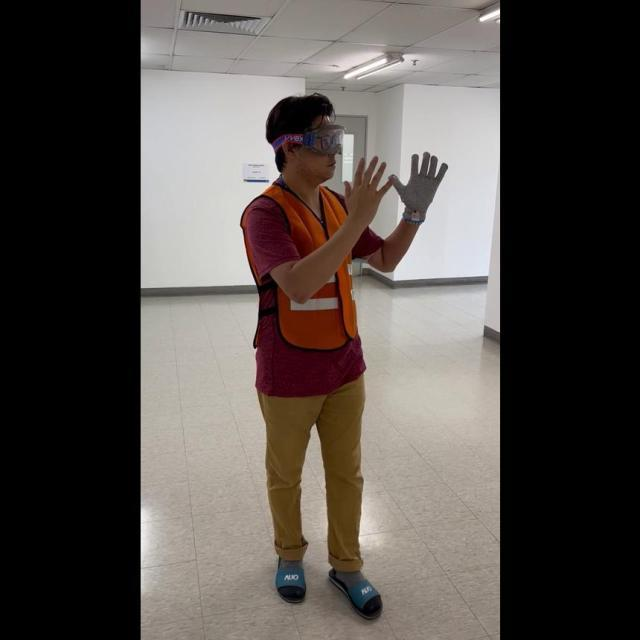bare_hand: (334, 150, 394, 227)
gloved_hand: (387, 146, 447, 225)
